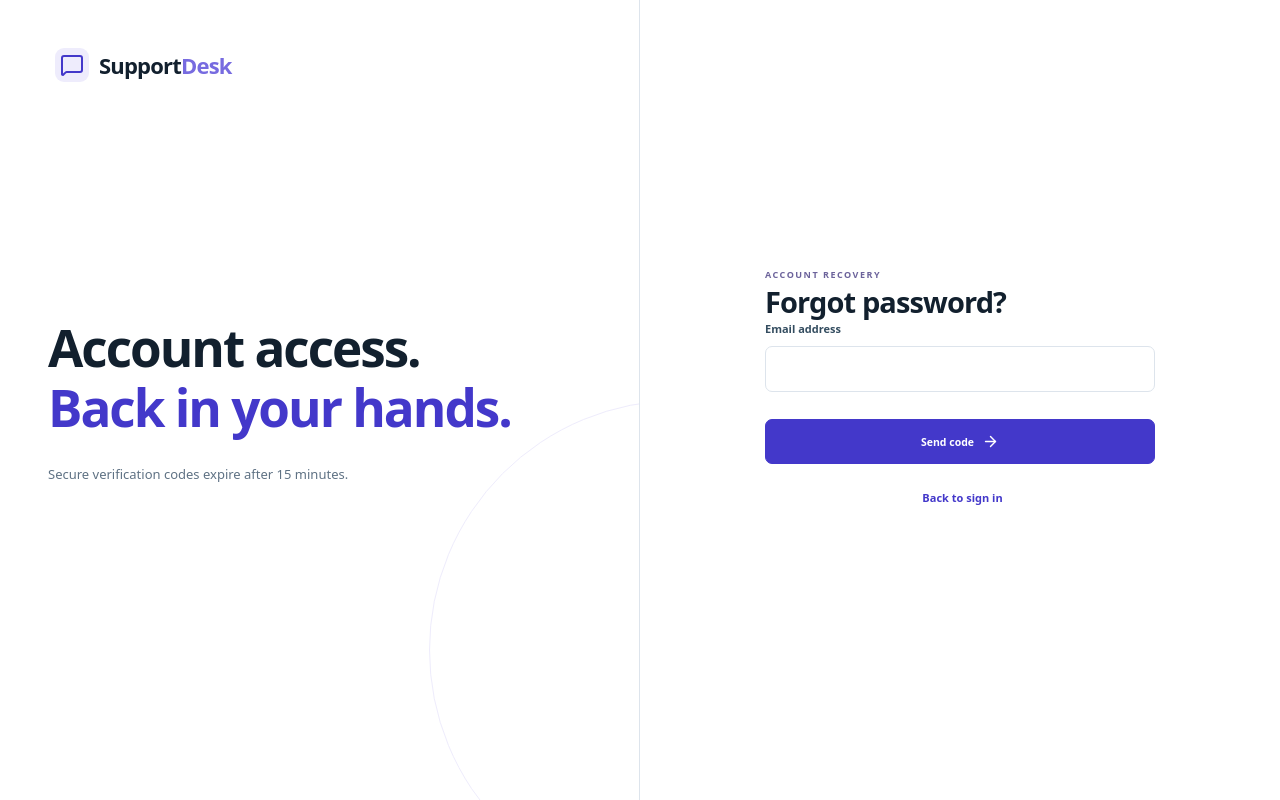
Test: supports reset resend and changing a mistyped email
Check: the text "Secure verification codes expire after 15 minutes." is shown, box [48,465,348,483]
Type "customer@example.com" into the field labelled "Email address". click: x=960, y=369
box: [765,346,1155,392]
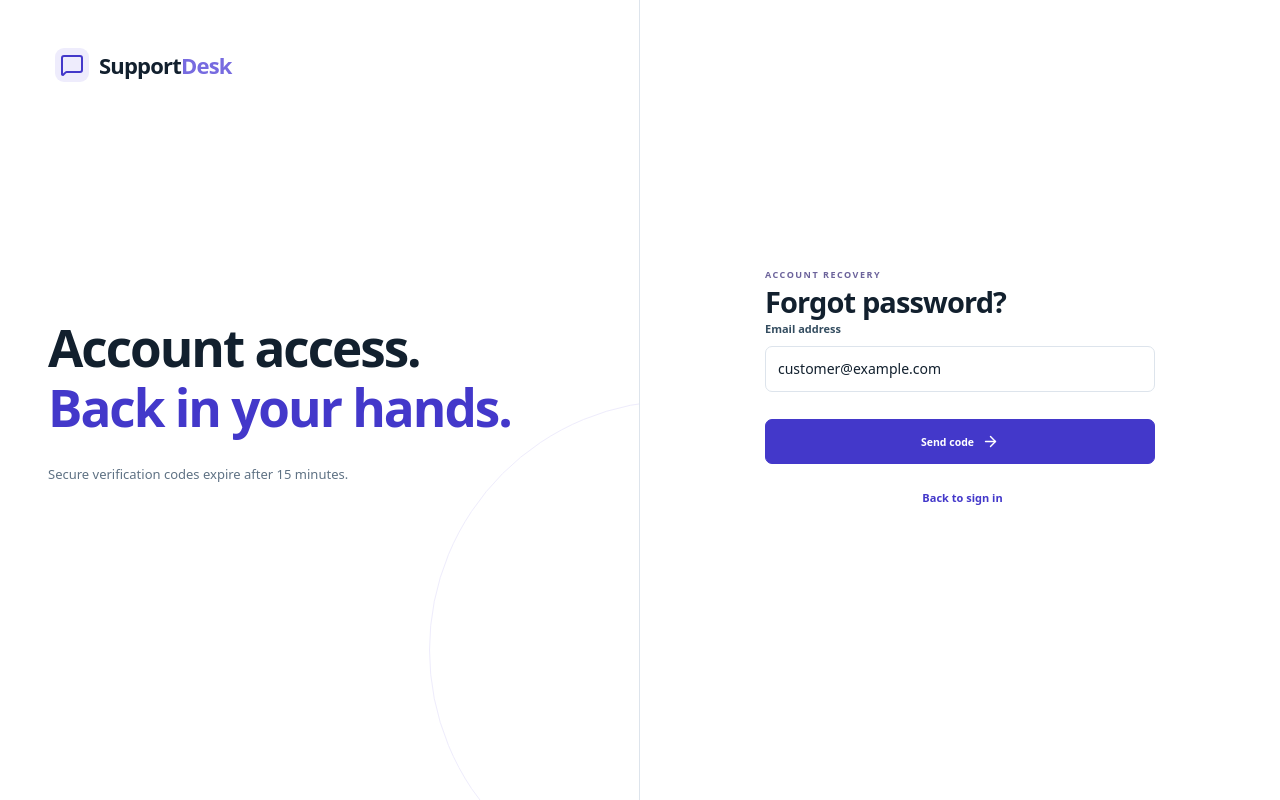
Click the button "Send code". click: x=960, y=442
box: [765,419,1155,464]
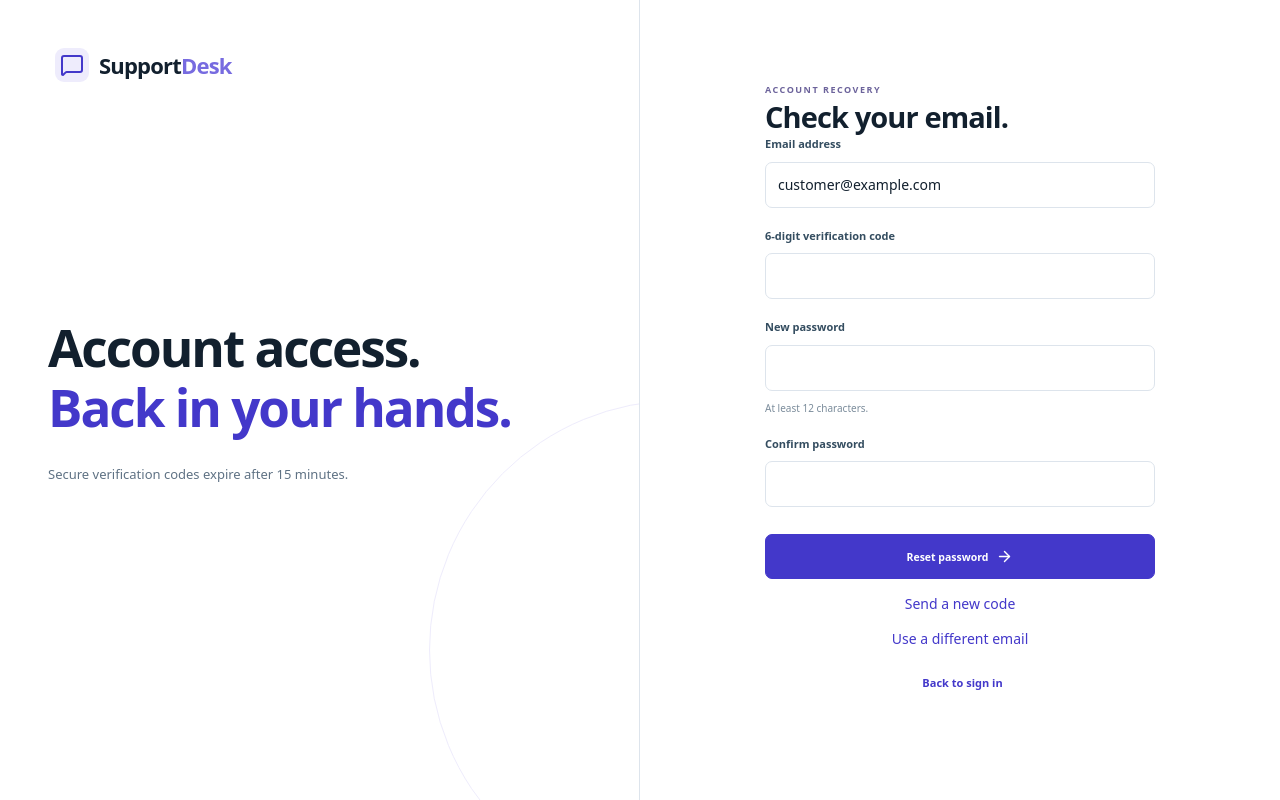
Click the button "Send a new code". click: x=960, y=604
box: [905,593,1015,614]
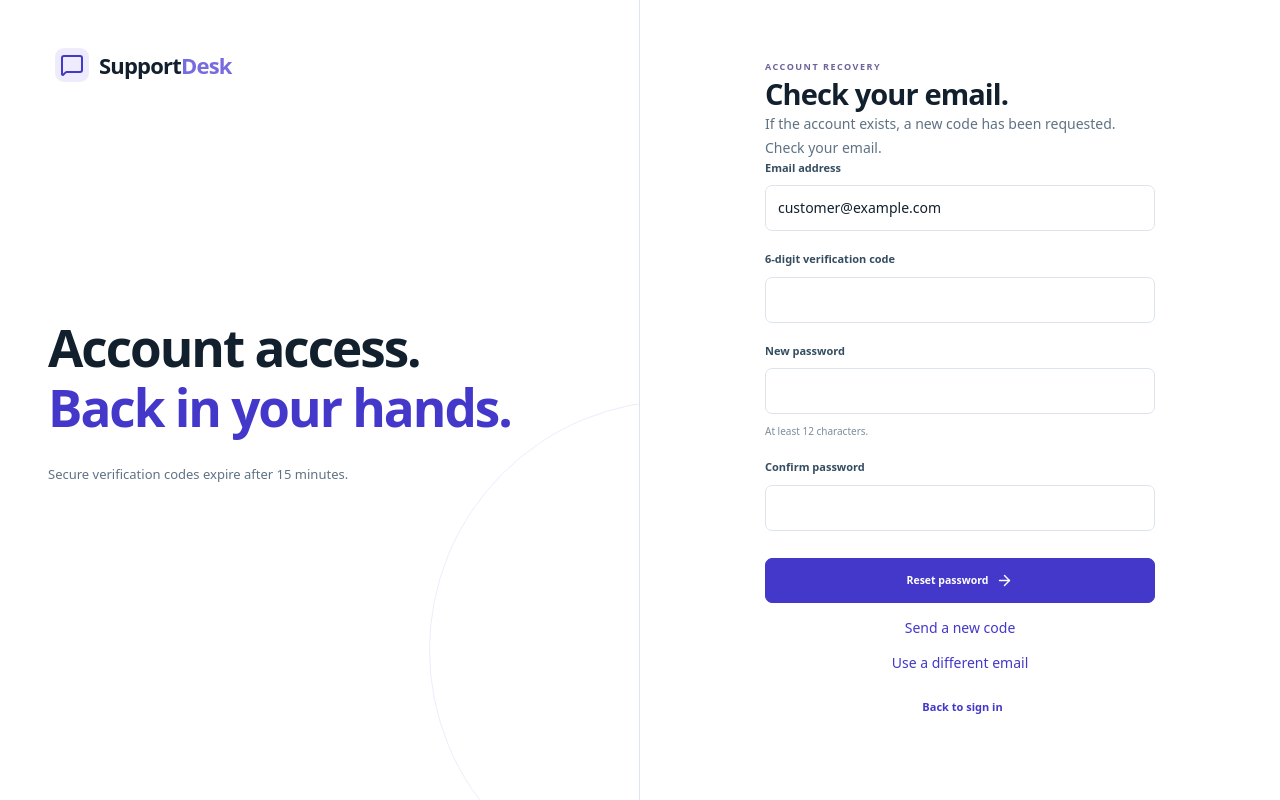
Check: the message "If the account exists, a new code has been requested. Check your email." is shown, box [765,112,1155,160]
Click the button "Use a different email". click: x=960, y=662
box: [892,652,1028,673]
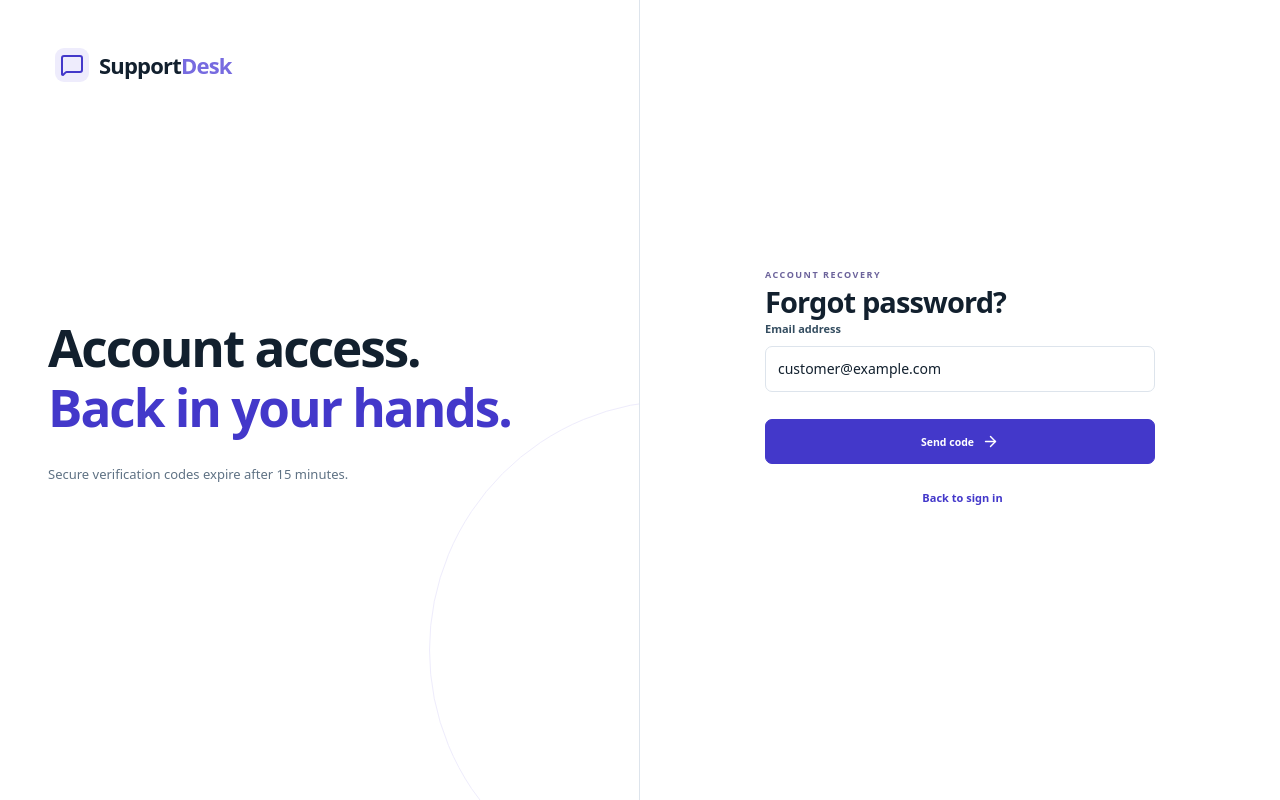
Check: the text labelled "6-digit verification code" is gone
